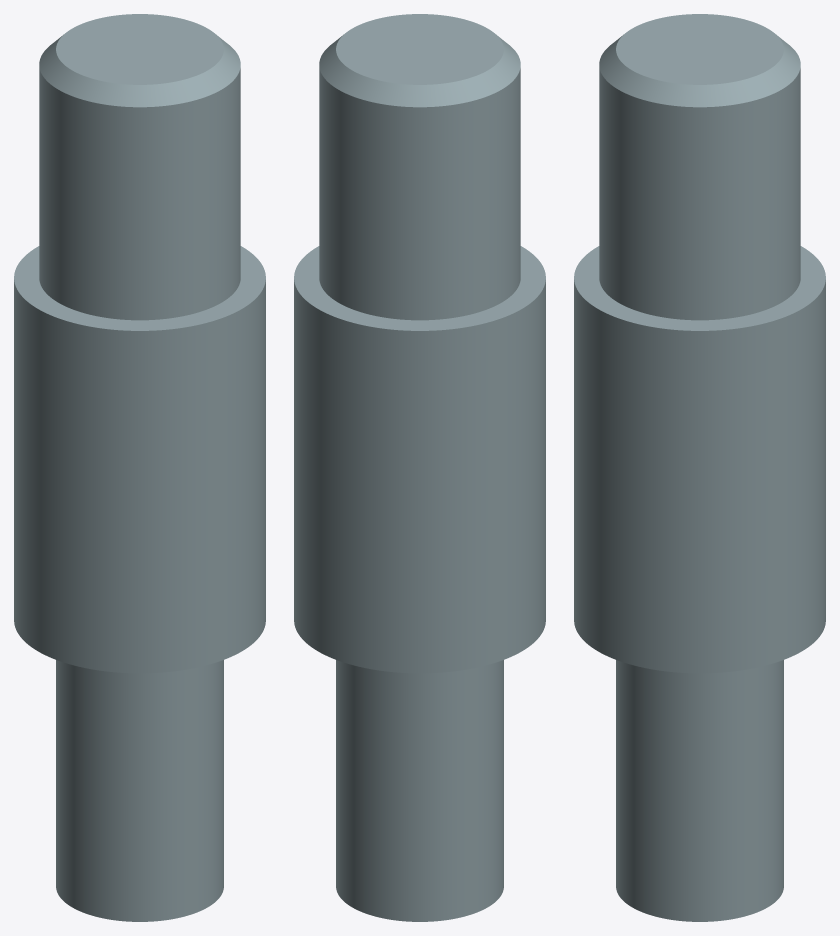
The model's file is demo_shaft.glb.
3 renders of one model, left to right at view 1: azimuth 30°, elevation 25°; view 2: azimuth 150°, elevation 25°; view 3: azimuth 270°, elevation 25°, orthographic.
Parts seen in each view (by area): view 1: demo_shaft; view 2: demo_shaft; view 3: demo_shaft.
Part boxes in pixels (<box>): demo_shaft: <box>14,14,265,921</box>; demo_shaft: <box>294,14,545,921</box>; demo_shaft: <box>574,14,825,921</box>.
Size of the model in its own units: 30 by 110 by 29.99.
